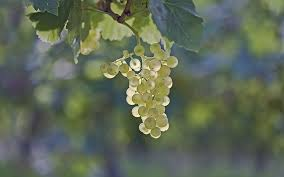grapes: (106, 45, 176, 136)
